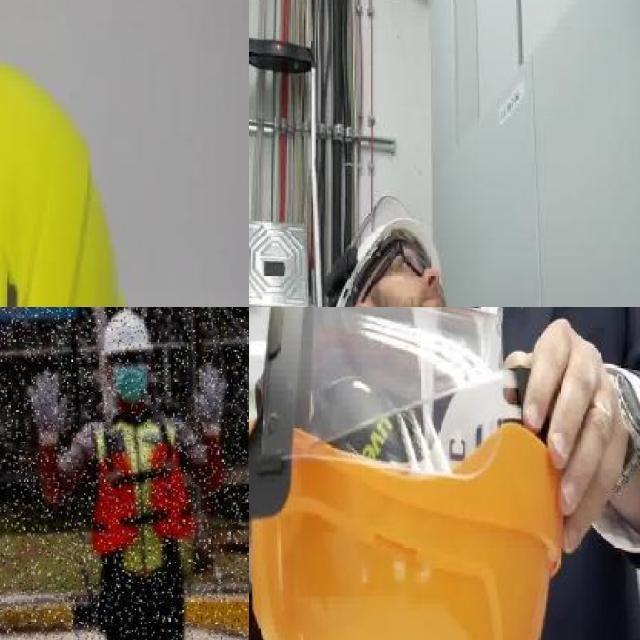apron: (25, 366, 70, 454), (192, 360, 228, 440)
